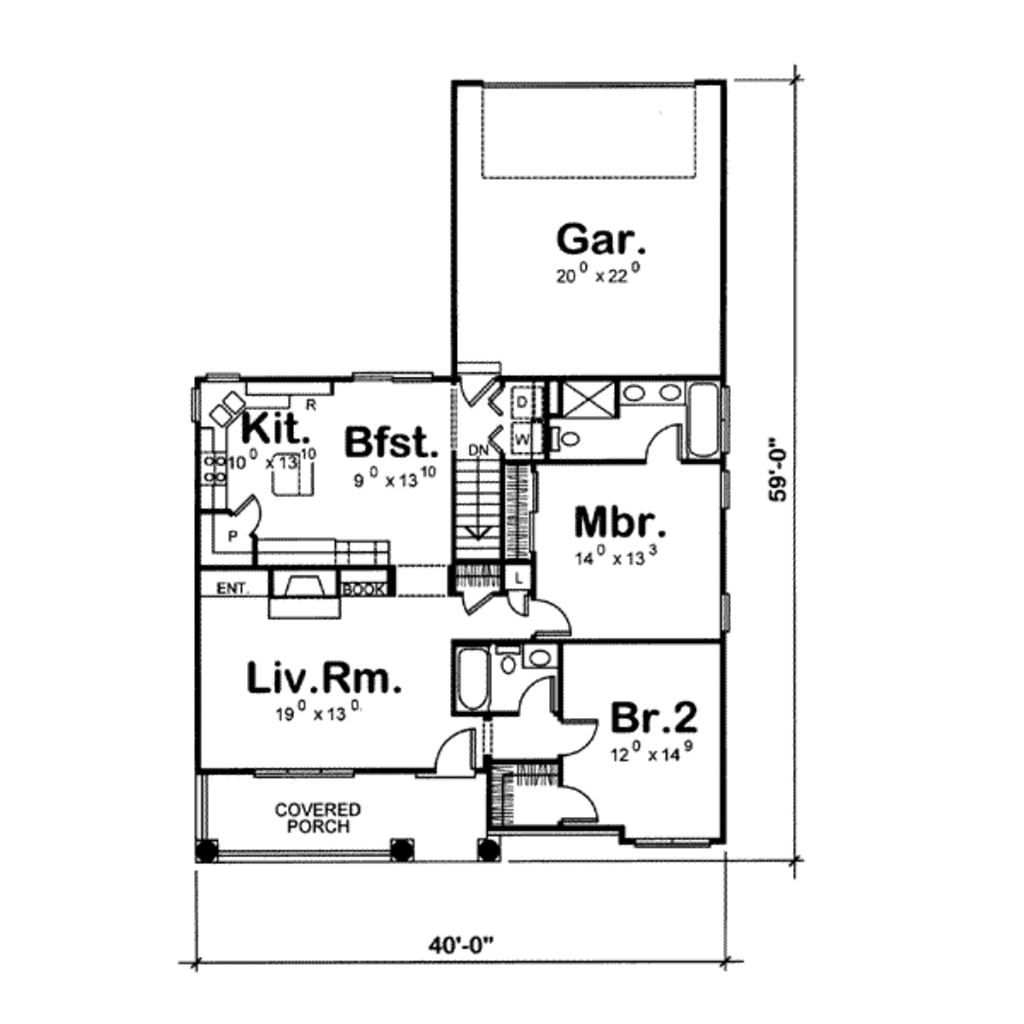door: (453, 358, 511, 422), (433, 730, 490, 793), (638, 424, 685, 471), (566, 717, 606, 768), (517, 676, 565, 717), (353, 365, 430, 390), (563, 790, 609, 831), (495, 585, 542, 624), (528, 605, 580, 635), (232, 489, 262, 539), (463, 585, 503, 616)
large_sink: (549, 424, 582, 462)
small_sink: (615, 378, 688, 403), (519, 647, 565, 666)
stairs: (449, 436, 520, 565)
tub: (685, 378, 723, 463), (452, 644, 490, 712)
twin_sink: (203, 399, 260, 442)
window: (250, 762, 357, 787), (636, 827, 707, 855), (712, 592, 749, 635), (711, 468, 738, 517)
